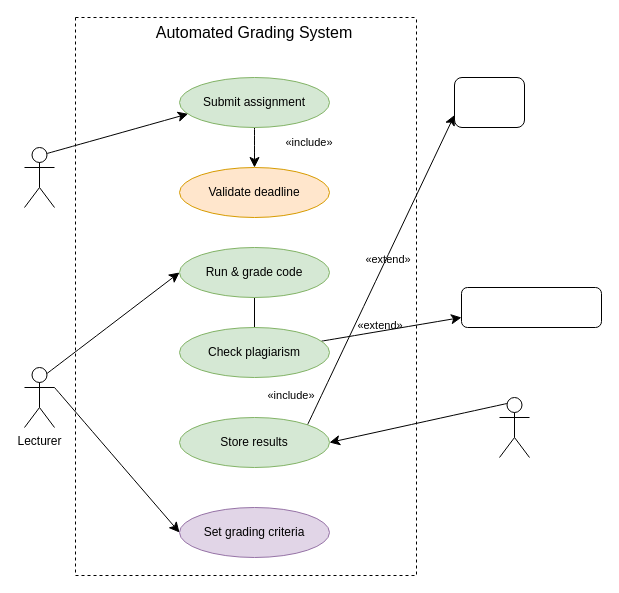
The diagram is 619 pixels wide and 593 high, and some of its shapes have lost their labels. The centre of each missing label's shape, as x and y in pixels:
Admin: (514,427)
LMS: (489,102)
Student: (39,177)
TurnItIn: (531,307)
